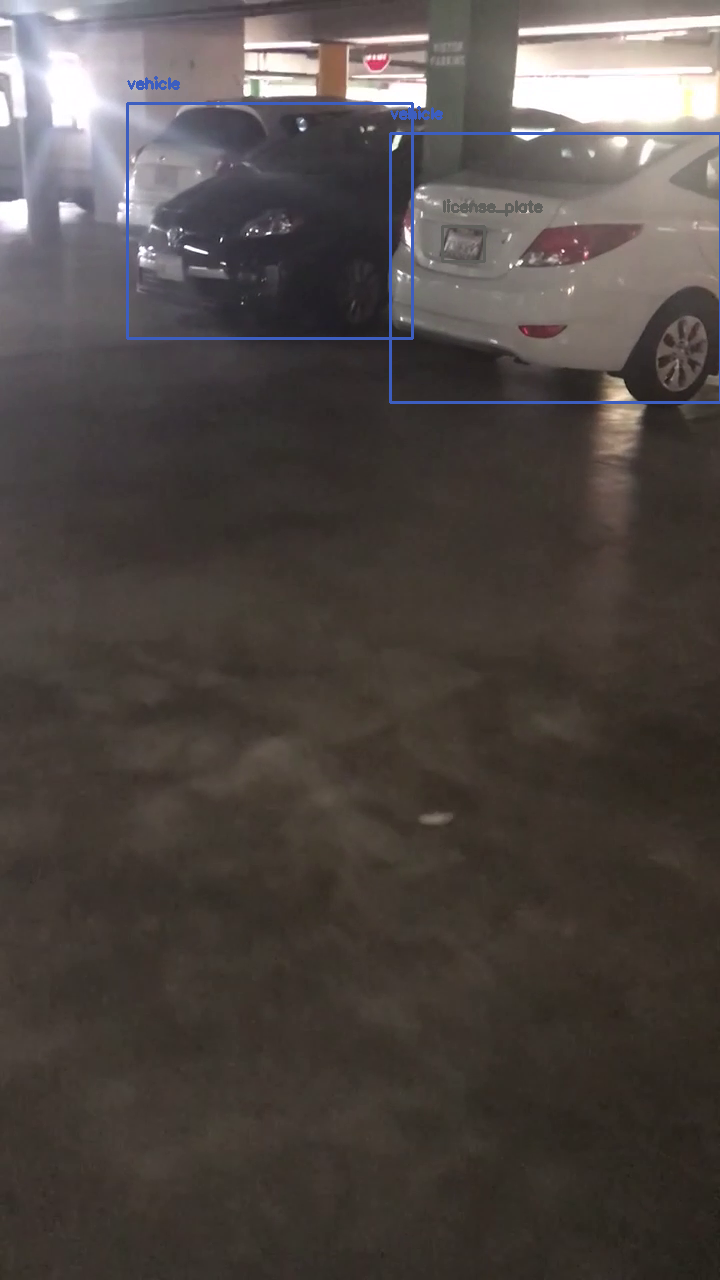license_plate: (442, 226, 484, 261)
vehicle: (390, 133, 720, 402), (127, 103, 412, 338)
